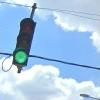traffic lights: (10, 16, 38, 68)
